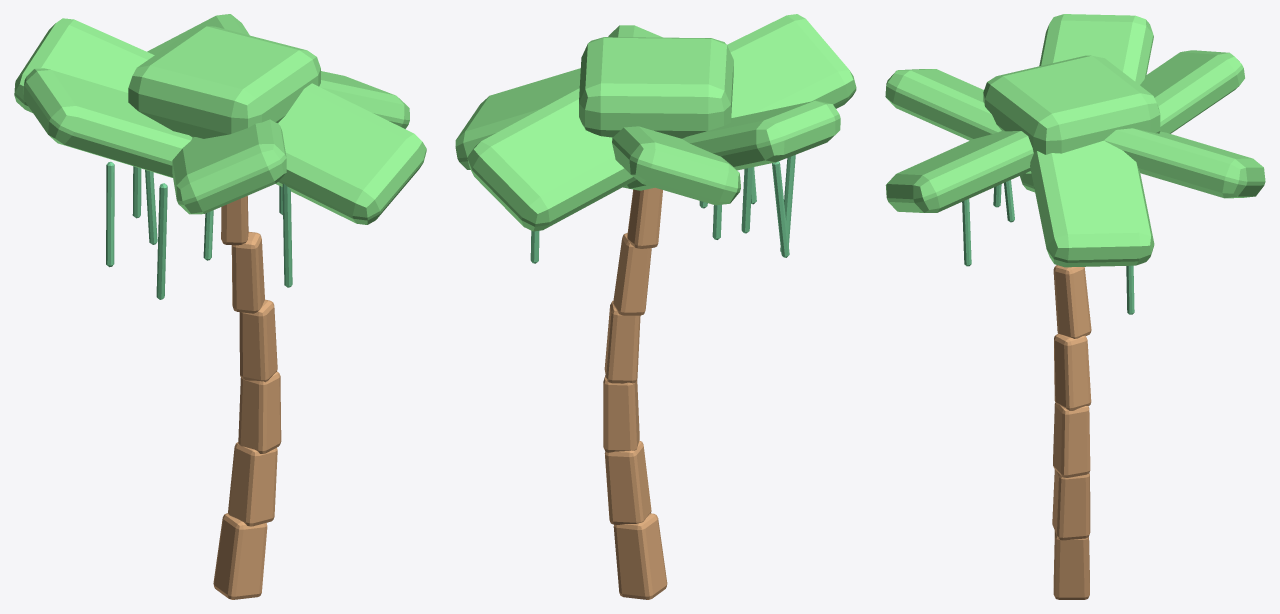
The model's file is jungle_tree.glb.
3 views of the same model, side by side, from view 1: azimuth 30°, elevation 25°; view 2: azimuth 150°, elevation 25°; view 3: azimuth 270°, elevation 25° (orthographic). The views are drawn at different scales.
Parts seen in each view (by area): view 1: jungle_tree; view 2: jungle_tree; view 3: jungle_tree.
Boxes of the visible parts, left/top/right/bottom form: jungle_tree: left=14, top=14, right=426, bottom=599; jungle_tree: left=455, top=14, right=856, bottom=599; jungle_tree: left=885, top=14, right=1265, bottom=599.
Bounding box in the file's own units: 8.4 × 12.14 × 8.31.
